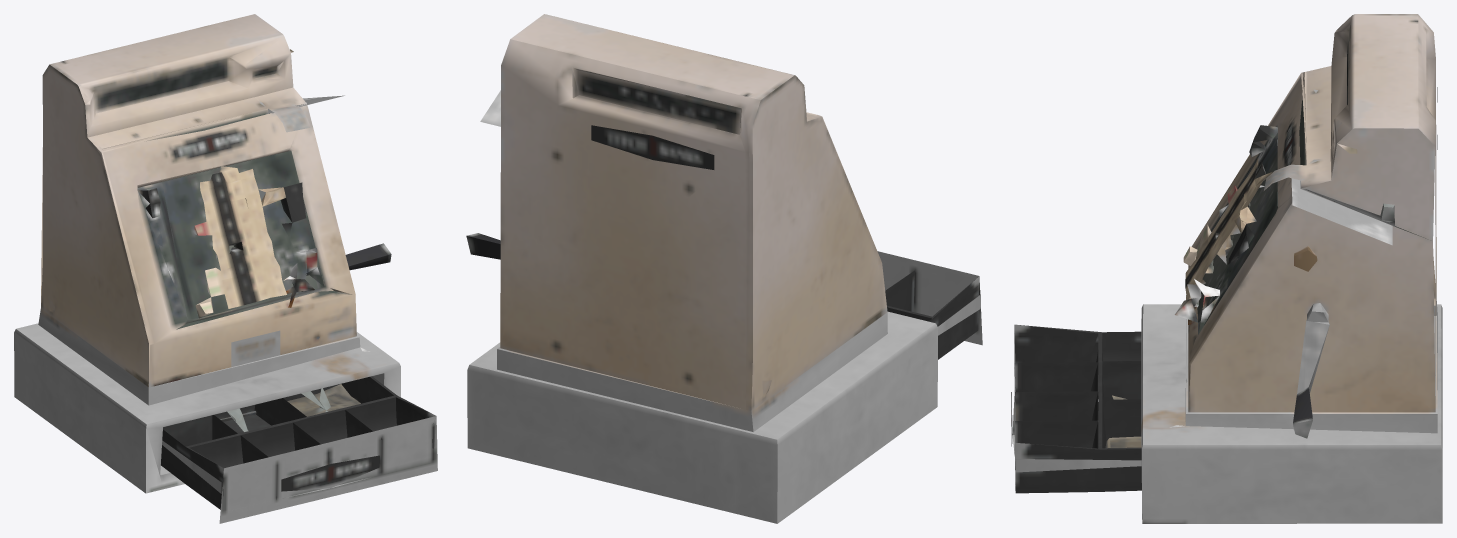
Rendered from cash_register.glb.
3 views of the same model, side by side, from view 1: azimuth 30°, elevation 25°; view 2: azimuth 150°, elevation 25°; view 3: azimuth 270°, elevation 25° (orthographic). The views are drawn at different scales.
Parts seen in each view (by area): view 1: mesh; view 2: mesh; view 3: mesh.
Boxes of the visible parts, x1,y1,x2,y2 form: mesh: (14, 14, 437, 523); mesh: (466, 14, 982, 523); mesh: (1011, 14, 1442, 523).
Size of the model in its own units: 0.5962 by 0.6214 by 0.6249.
1 material, 1 textured.
